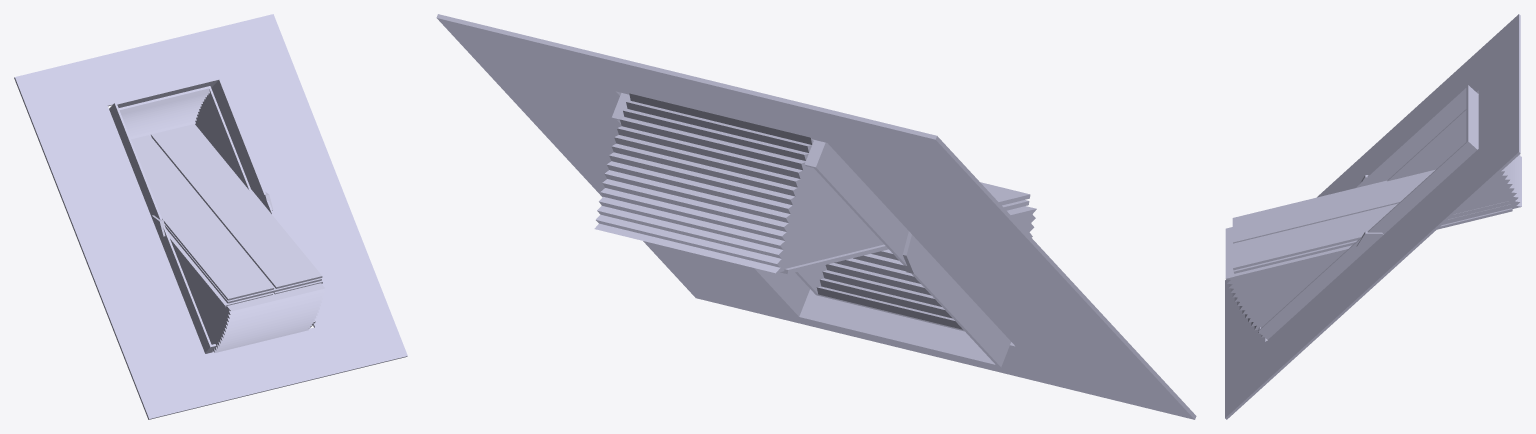
File: RotateDock_015deg.glb
3 views of the same model, side by side, from view 1: azimuth 30°, elevation 25°; view 2: azimuth 150°, elevation 25°; view 3: azimuth 270°, elevation 25° (orthographic). The views are drawn at different scales.
Parts seen in each view (by area): view 1: copy_Body021, copy_LinkGroup004, copy_Body023, copy_Body, copy_Body022, copy_LinkGroup003; view 2: copy_Body021, copy_Body022, copy_Body, copy_Body023, copy_LinkGroup003, copy_Body002, copy_LinkGroup004; view 3: copy_Body021, copy_LinkGroup004, copy_Body, copy_Body023, copy_Body022, copy_LinkGroup003, copy_Body001.
Boxes of the visible parts, x1=… form: copy_Body021: x1=14, y1=14, x2=407, y2=419; copy_LinkGroup004: x1=131, y1=124, x2=322, y2=303; copy_Body023: x1=172, y1=243, x2=324, y2=352; copy_Body: x1=109, y1=77, x2=316, y2=353; copy_Body022: x1=119, y1=86, x2=250, y2=190; copy_LinkGroup003: x1=166, y1=229, x2=322, y2=307; copy_Body021: x1=436, y1=14, x2=1196, y2=419; copy_Body022: x1=594, y1=93, x2=883, y2=273; copy_Body: x1=612, y1=93, x2=1010, y2=367; copy_Body023: x1=795, y1=206, x2=1036, y2=331; copy_LinkGroup003: x1=780, y1=207, x2=1032, y2=274; copy_Body002: x1=902, y1=231, x2=930, y2=273; copy_LinkGroup004: x1=980, y1=182, x2=1030, y2=210; copy_Body021: x1=1225, y1=14, x2=1520, y2=419; copy_LinkGroup004: x1=1232, y1=169, x2=1511, y2=273; copy_Body: x1=1258, y1=85, x2=1478, y2=339; copy_Body023: x1=1225, y1=227, x2=1344, y2=337; copy_Body022: x1=1387, y1=109, x2=1521, y2=224; copy_LinkGroup003: x1=1234, y1=208, x2=1512, y2=278; copy_Body001: x1=1356, y1=231, x2=1383, y2=254.
Bounding box in the file's own units: 1.68 × 1.52 × 1.52.
